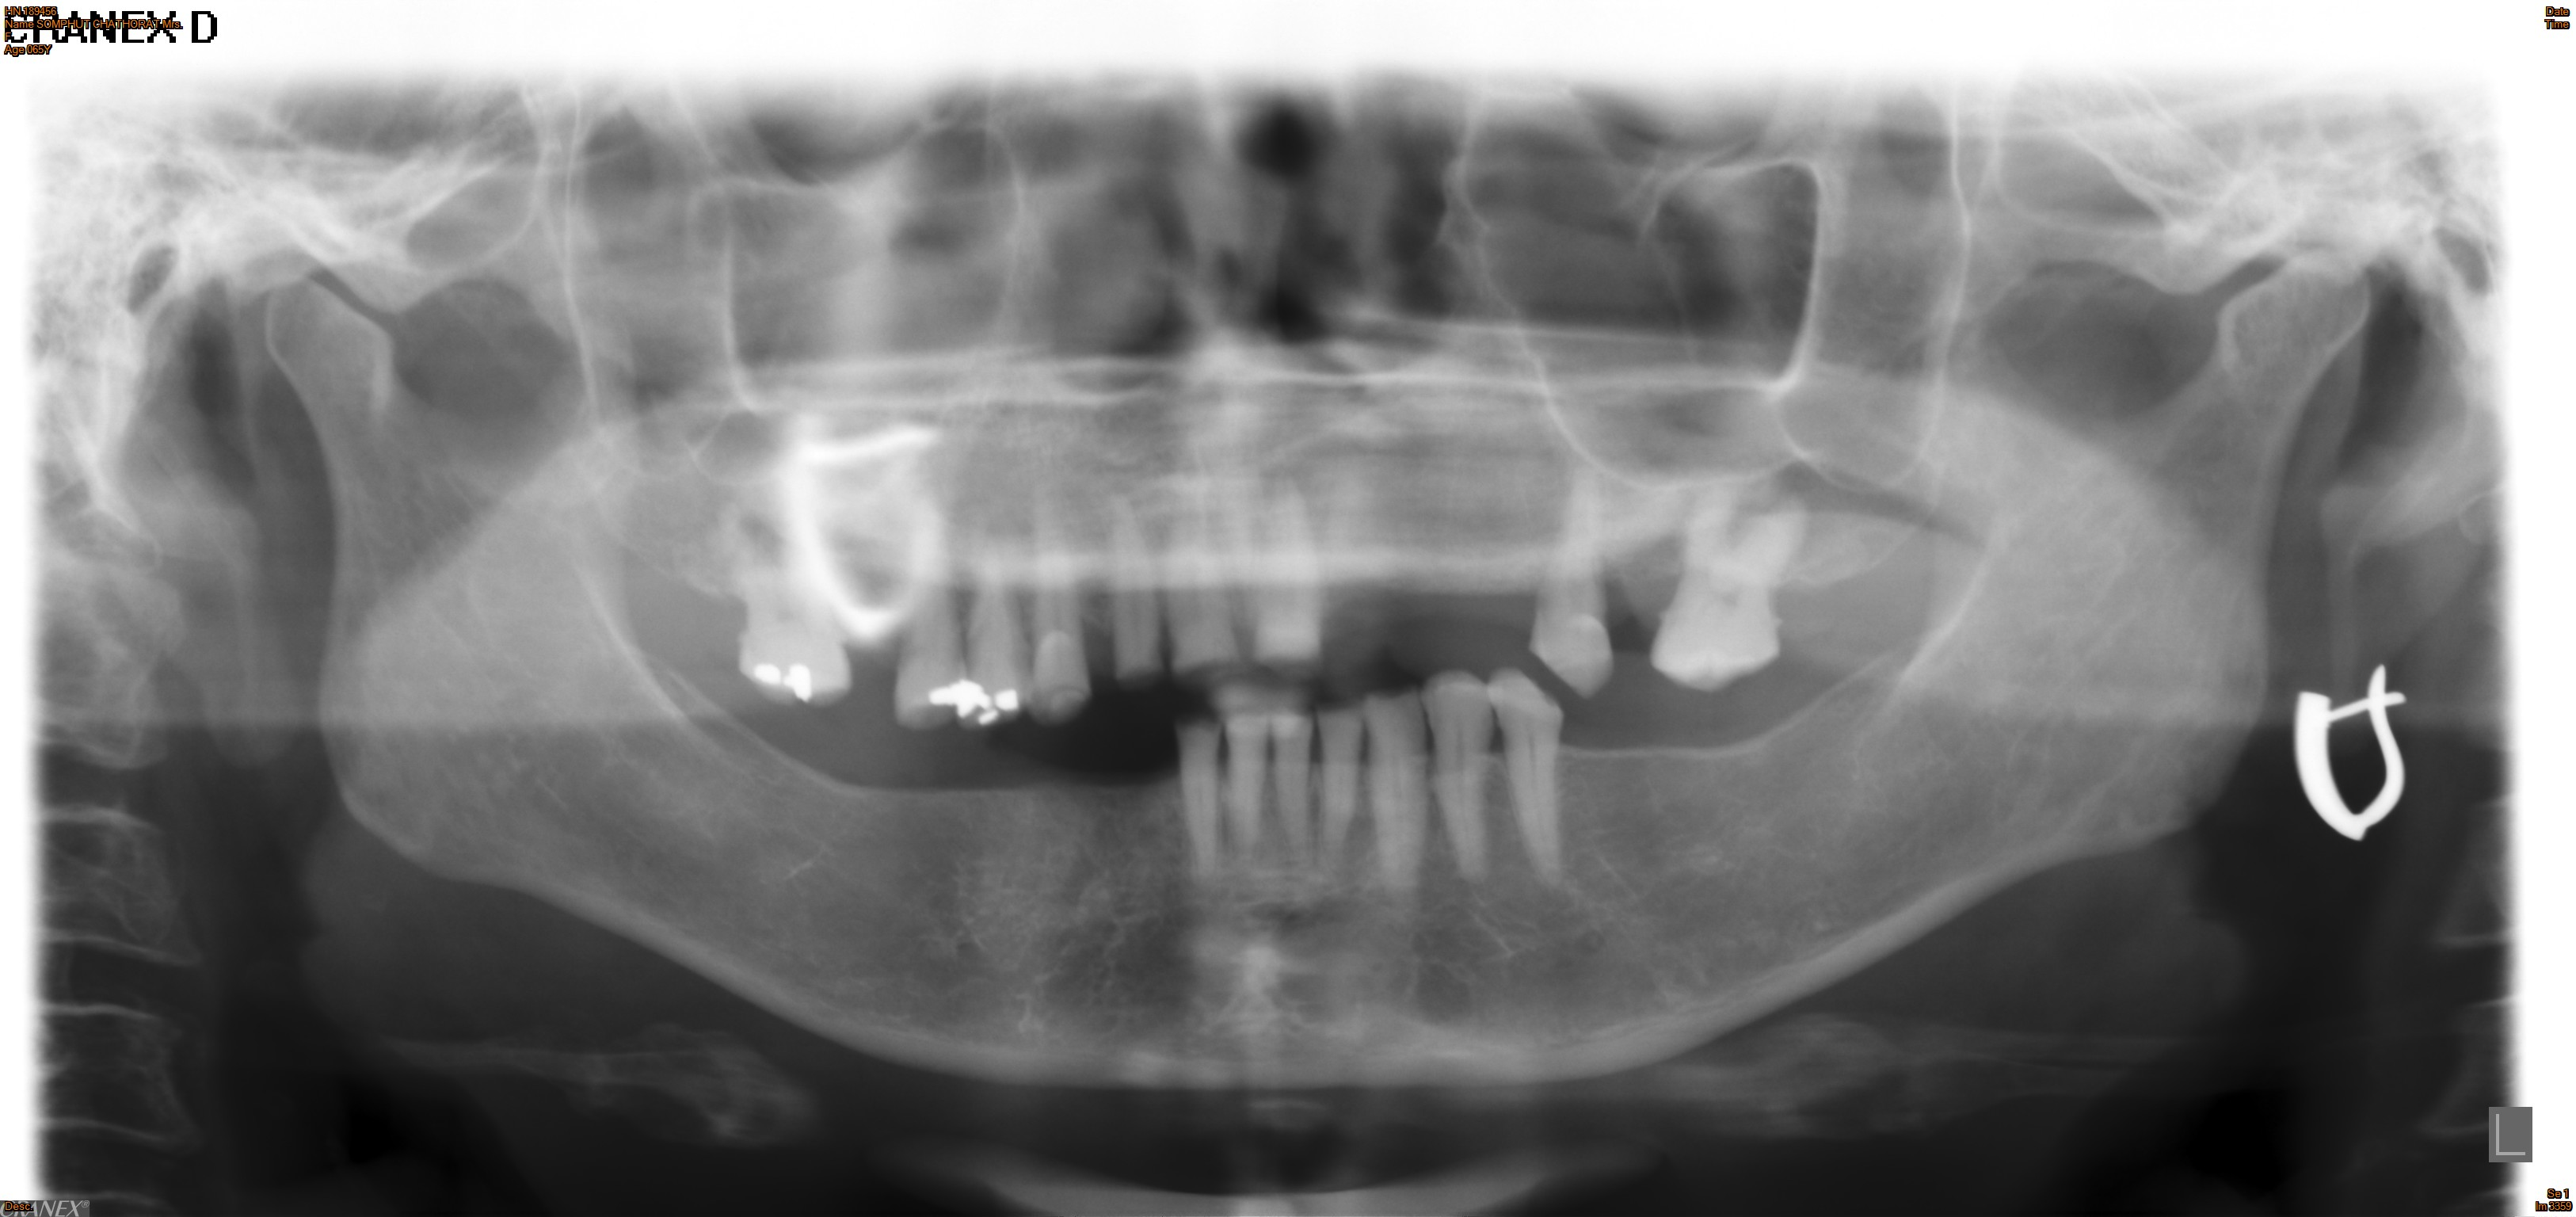periodontitis: (1646, 485, 1814, 698), (1525, 455, 1623, 706), (1485, 667, 1569, 893)
